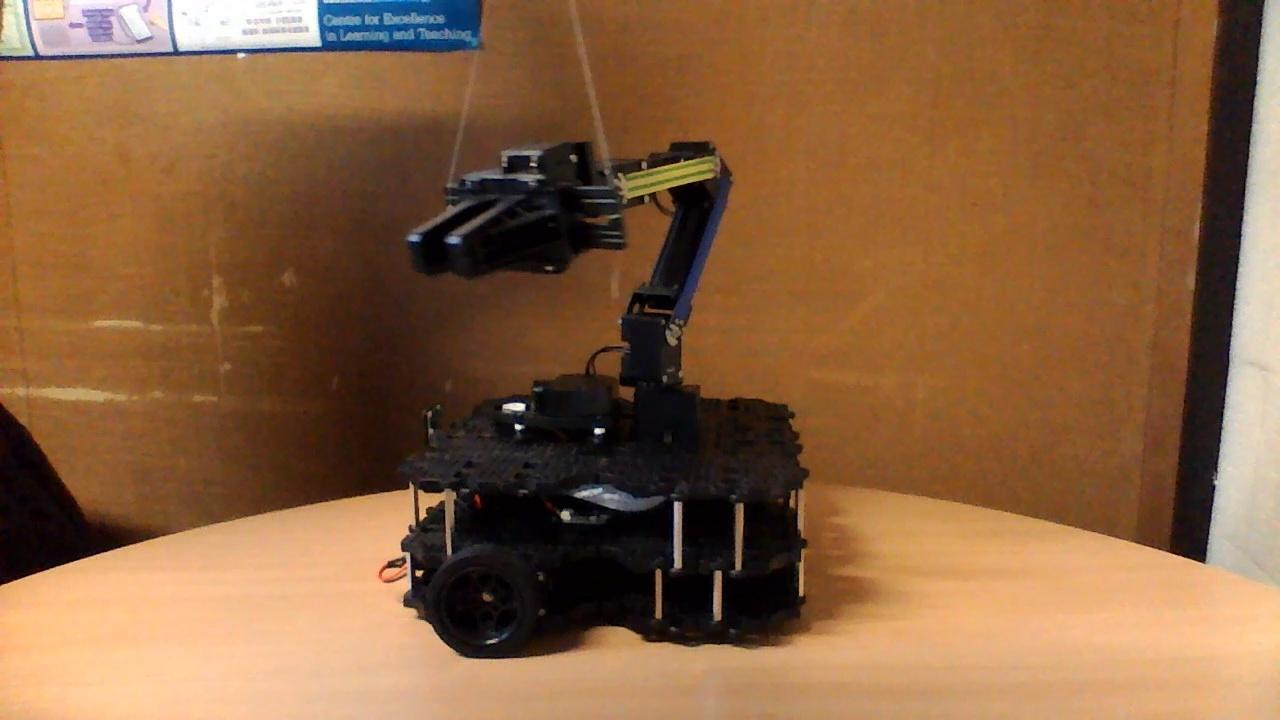Arm: (620, 170, 736, 346)
Hand: (403, 135, 630, 285)
Wrist: (608, 138, 727, 213)
base: (393, 370, 814, 661)
